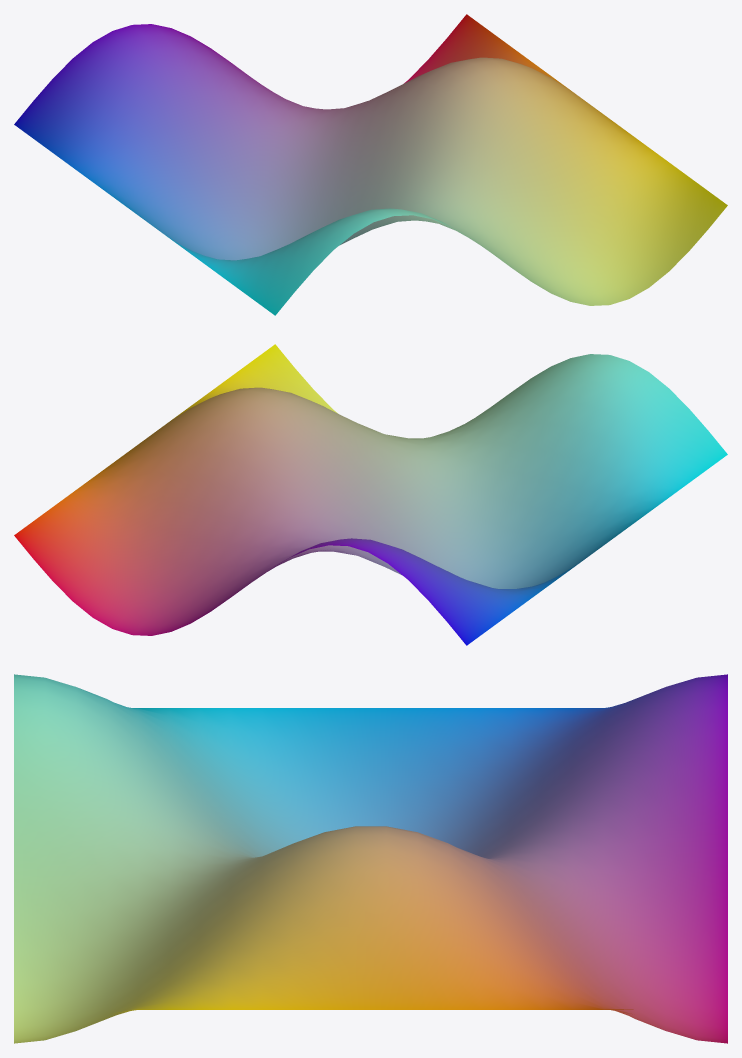
Rendered from synthetic_draco_seq_cl10_decoded.glb.
3 views of the same model, one above another, from view 1: azimuth 30°, elevation 25°; view 2: azimuth 150°, elevation 25°; view 3: azimuth 270°, elevation 25° (orthographic). The views are drawn at different scales.
Parts seen in each view (by area): view 1: bumpy; view 2: bumpy; view 3: bumpy.
Boxes of the visible parts, bbox=[...] form: bumpy: bbox=[14, 14, 727, 315]; bumpy: bbox=[14, 344, 727, 645]; bumpy: bbox=[14, 674, 727, 1043].
Size of the model in its own units: 1 by 0.2993 by 1.
